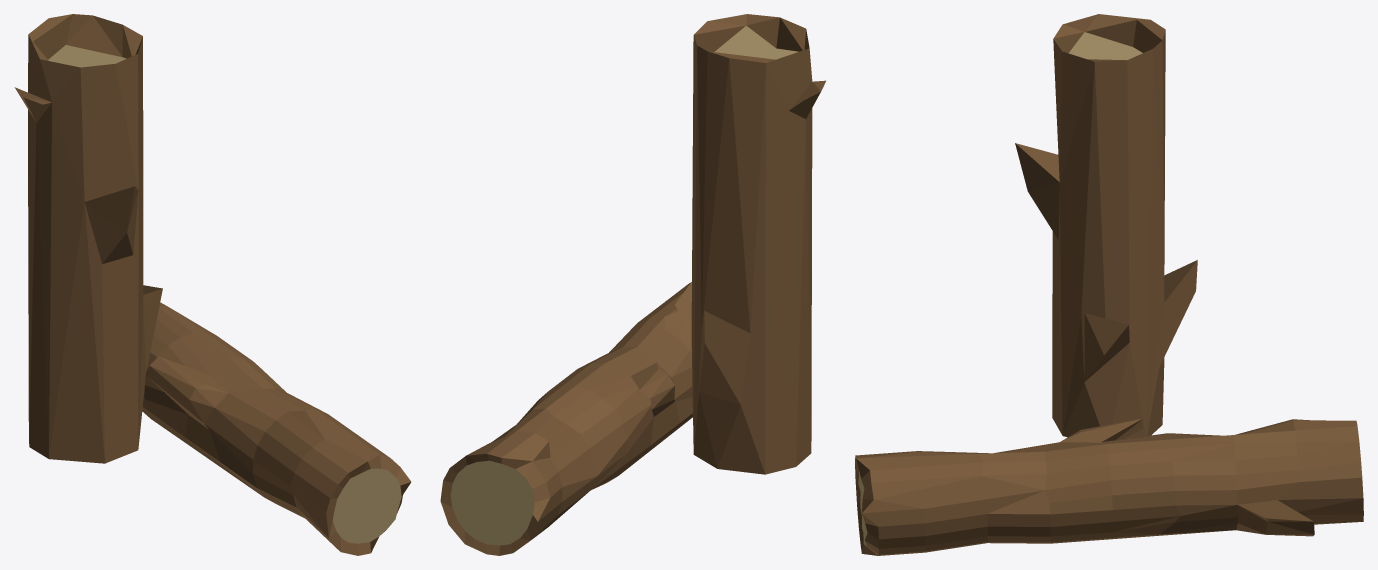
File: troncos.fbx
3 views of the same model, side by side, from view 1: azimuth 30°, elevation 25°; view 2: azimuth 150°, elevation 25°; view 3: azimuth 270°, elevation 25° (orthographic). The views are drawn at different scales.
Visible parts, largest first — view 1: Cylinder.004, tronco; view 2: Cylinder.004, tronco; view 3: tronco, Cylinder.004.
Boxes of the visible parts, left/top/right/bottom form: Cylinder.004: left=14, top=14, right=162, bottom=463; tronco: left=142, top=302, right=411, bottom=555; Cylinder.004: left=675, top=14, right=825, bottom=474; tronco: left=440, top=282, right=692, bottom=555; tronco: left=855, top=418, right=1363, bottom=555; Cylinder.004: left=1015, top=14, right=1197, bottom=437.
Size of the model in its own units: 198 by 330 by 341.
